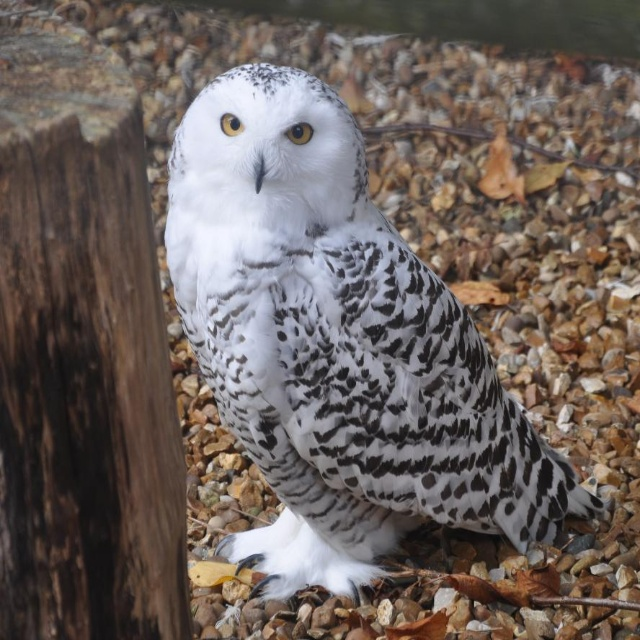Owl: (162, 62, 608, 607)
